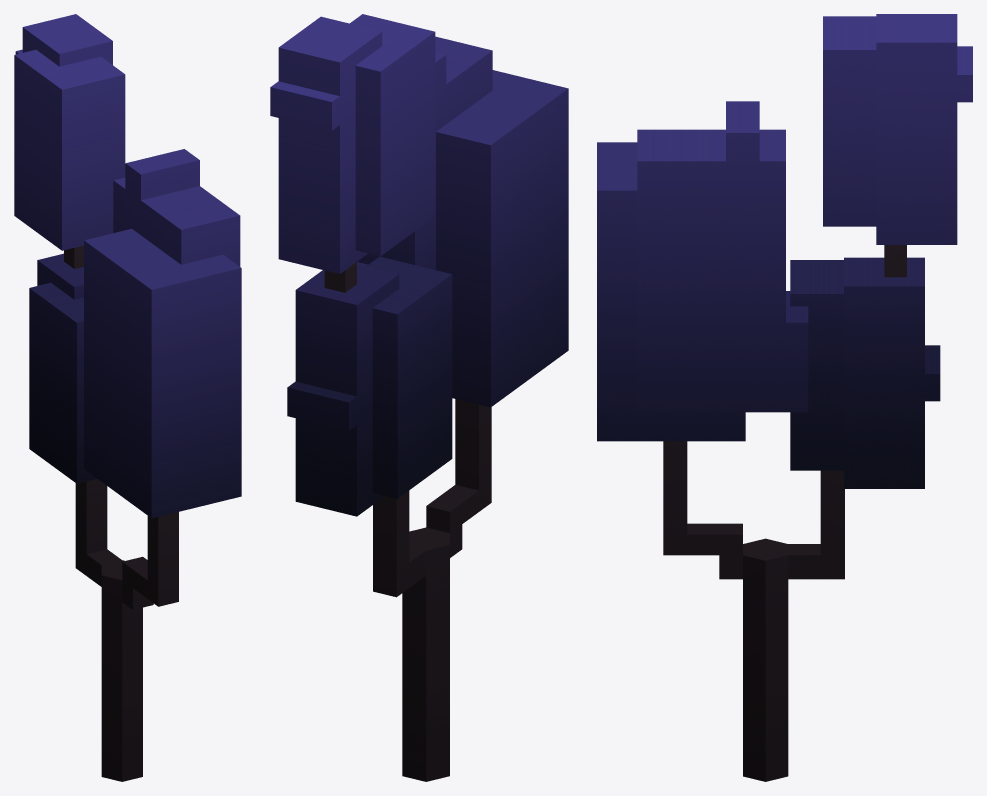
File: Arvore Azul 2.obj
3 renders of one model, left to right at view 1: azimuth 30°, elevation 25°; view 2: azimuth 150°, elevation 25°; view 3: azimuth 270°, elevation 25°, orthographic. The views are drawn at different scales.
Visible parts, largest first — view 1: Arvore Azul 2; view 2: Arvore Azul 2; view 3: Arvore Azul 2.
Part boxes in pixels (x1,y1,x2,y2): Arvore Azul 2: [14, 14, 241, 781]; Arvore Azul 2: [270, 14, 568, 781]; Arvore Azul 2: [597, 14, 972, 781].
Size of the model in its own units: 0.4563 by 2.79 by 1.27.
